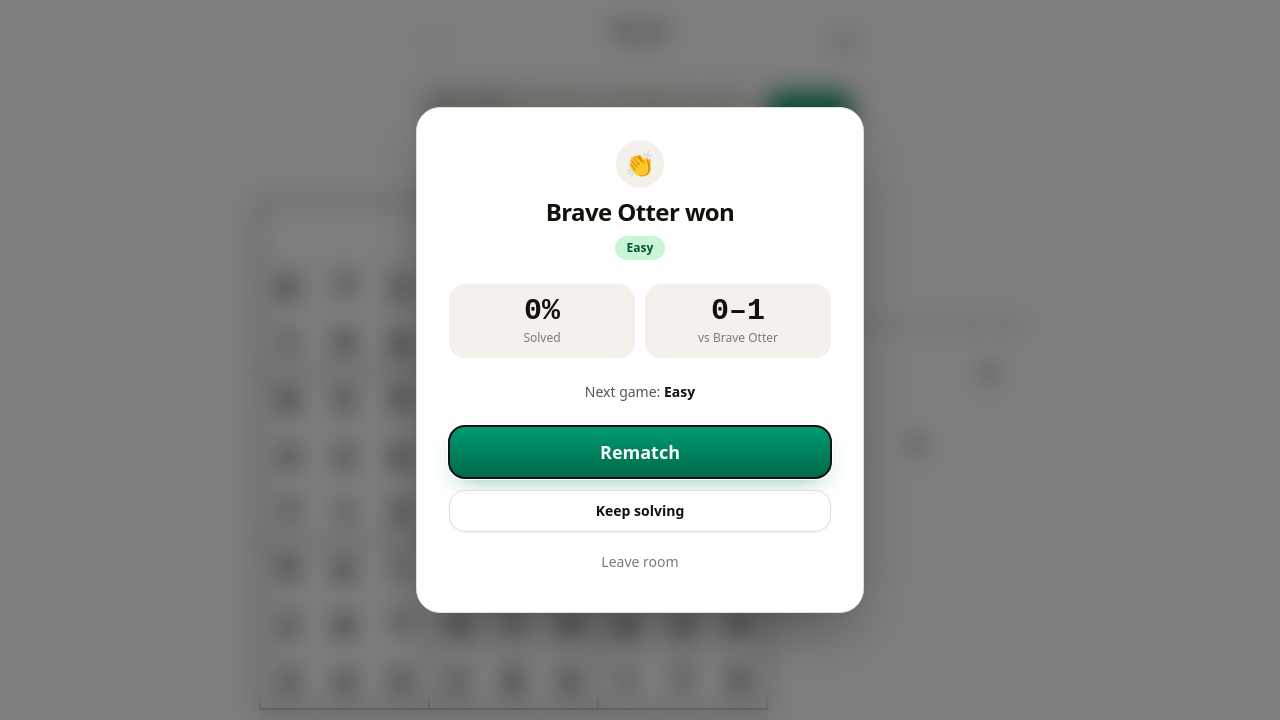
Test case: MultiplayerBoard after opponent wins › offers the loser the result right away, and their board back
Expected: the dialog "Brave Otter won" is shown, [416,107,864,613]
Click the button "Keep solving": click(640, 511) [449,490,831,532]
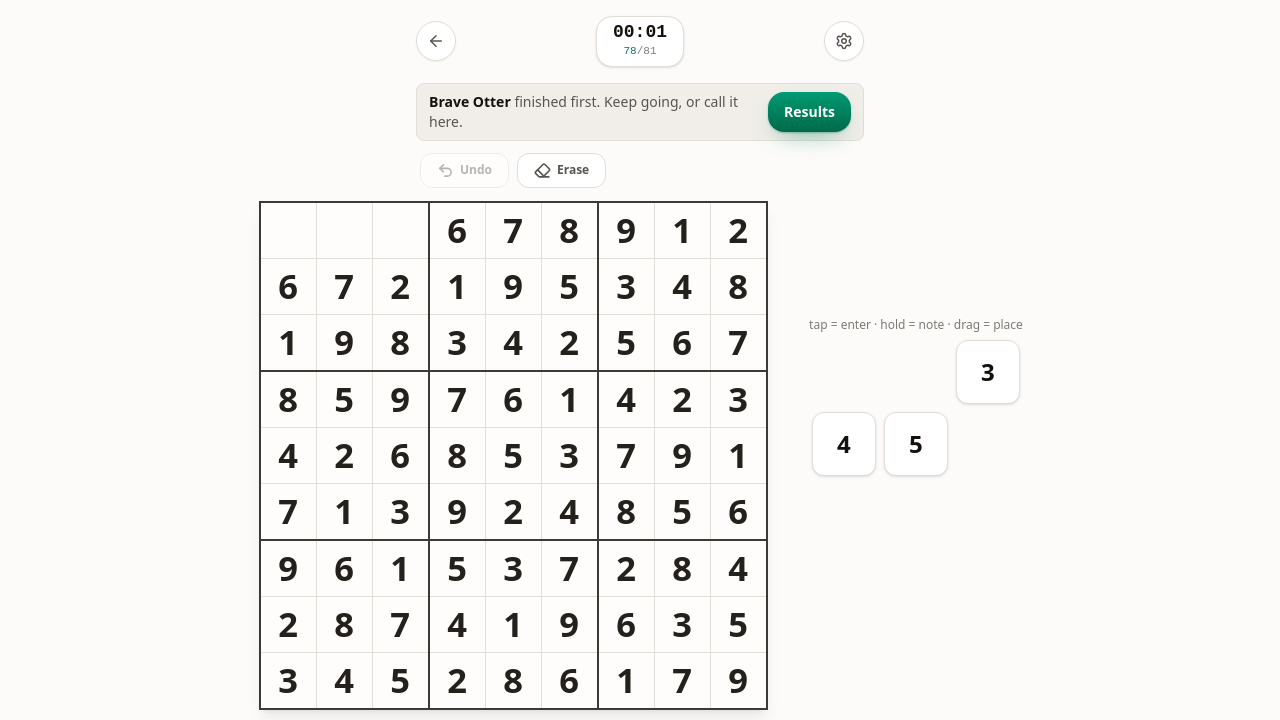
Now the dialog is gone
Click the button "Results": click(810, 112) [768,92,851,132]
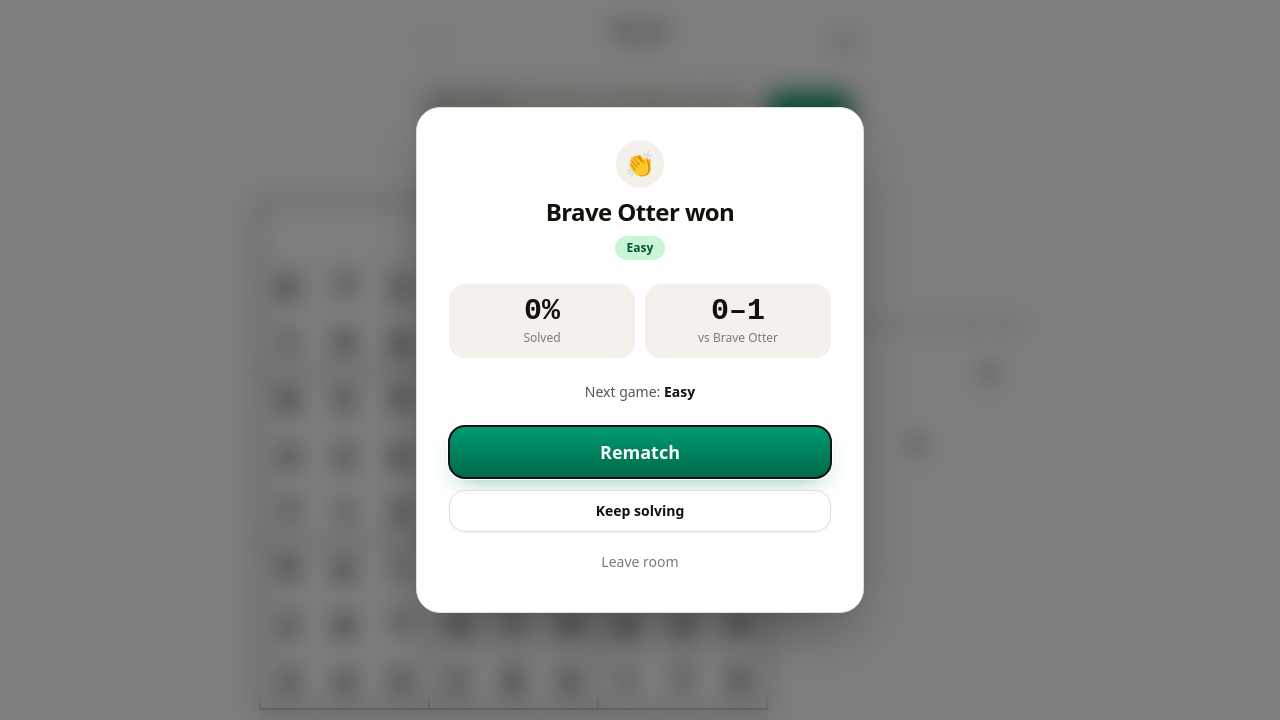
Now the dialog is shown, box [416,107,864,613]
